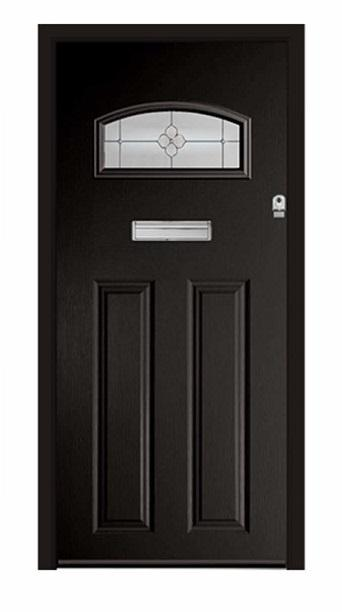door: (27, 27, 305, 583)
